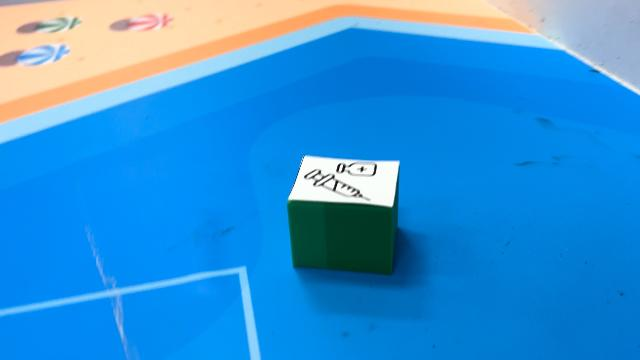syringe: (291, 155, 401, 273)
